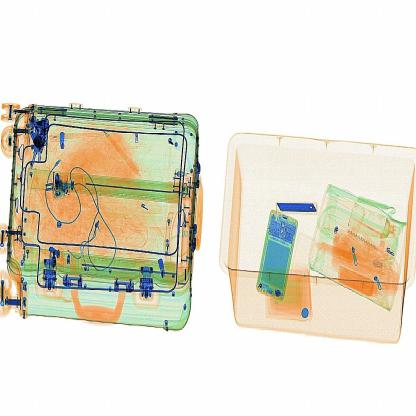pliers: (268, 194, 324, 226)
